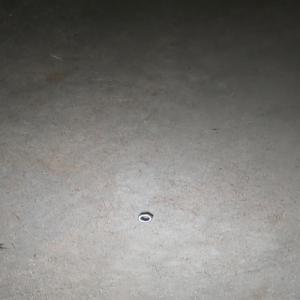Nut: (136, 211, 153, 222)
